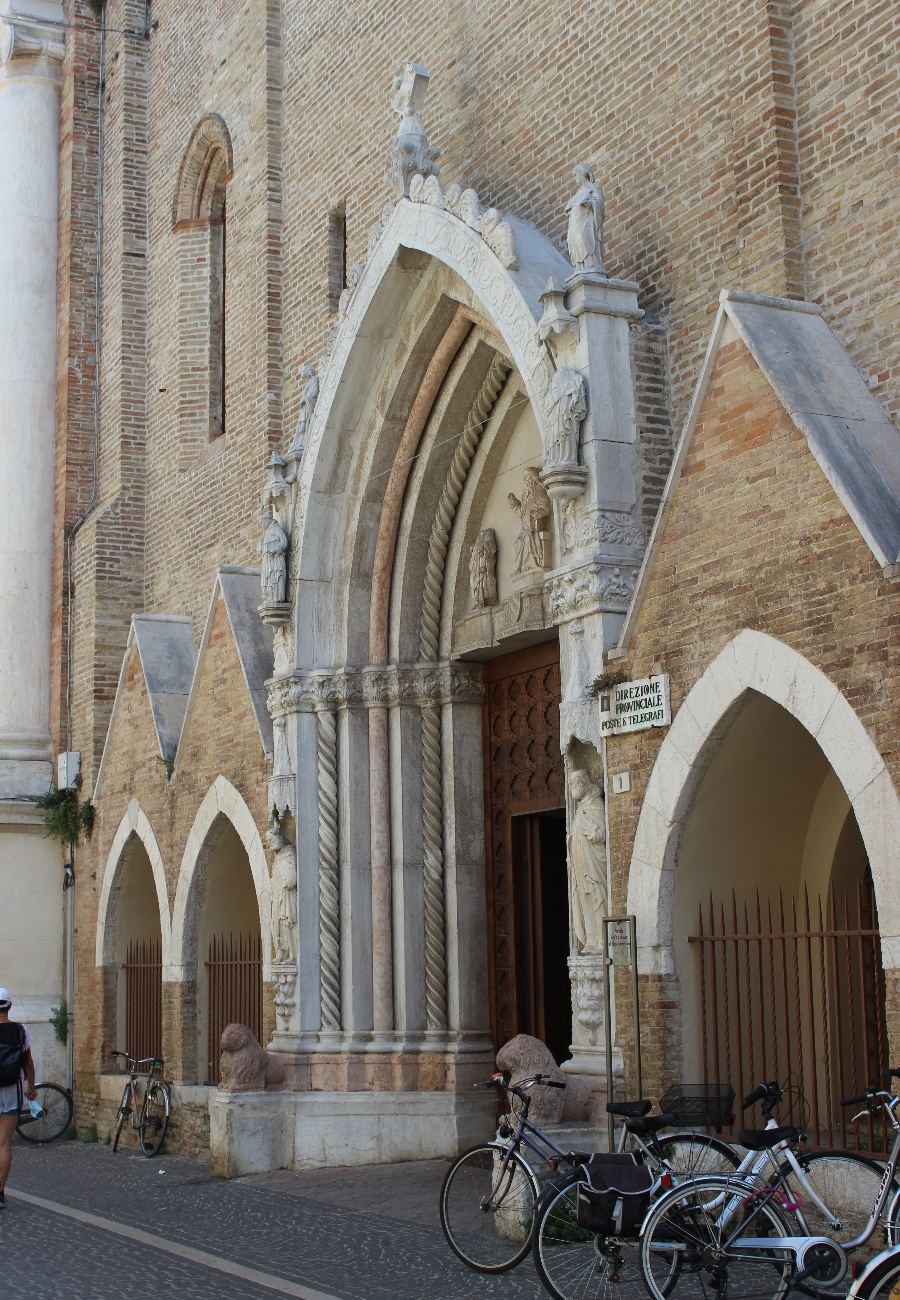Portale San Domenico: (211, 54, 654, 1155)
